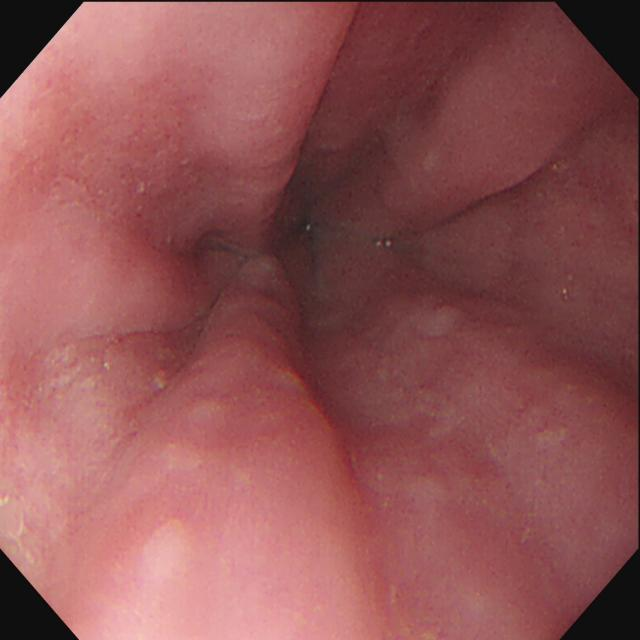J: (33, 344, 114, 439)
